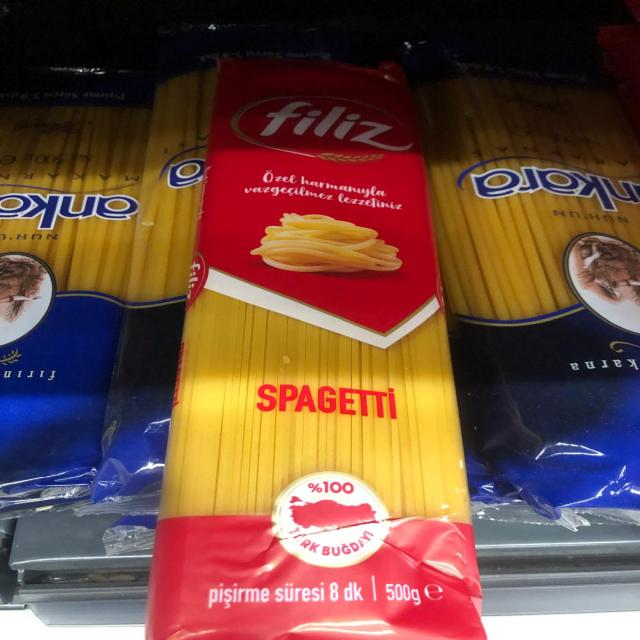spaghetti: (155, 58, 473, 640), (408, 31, 640, 477), (0, 46, 175, 488)
